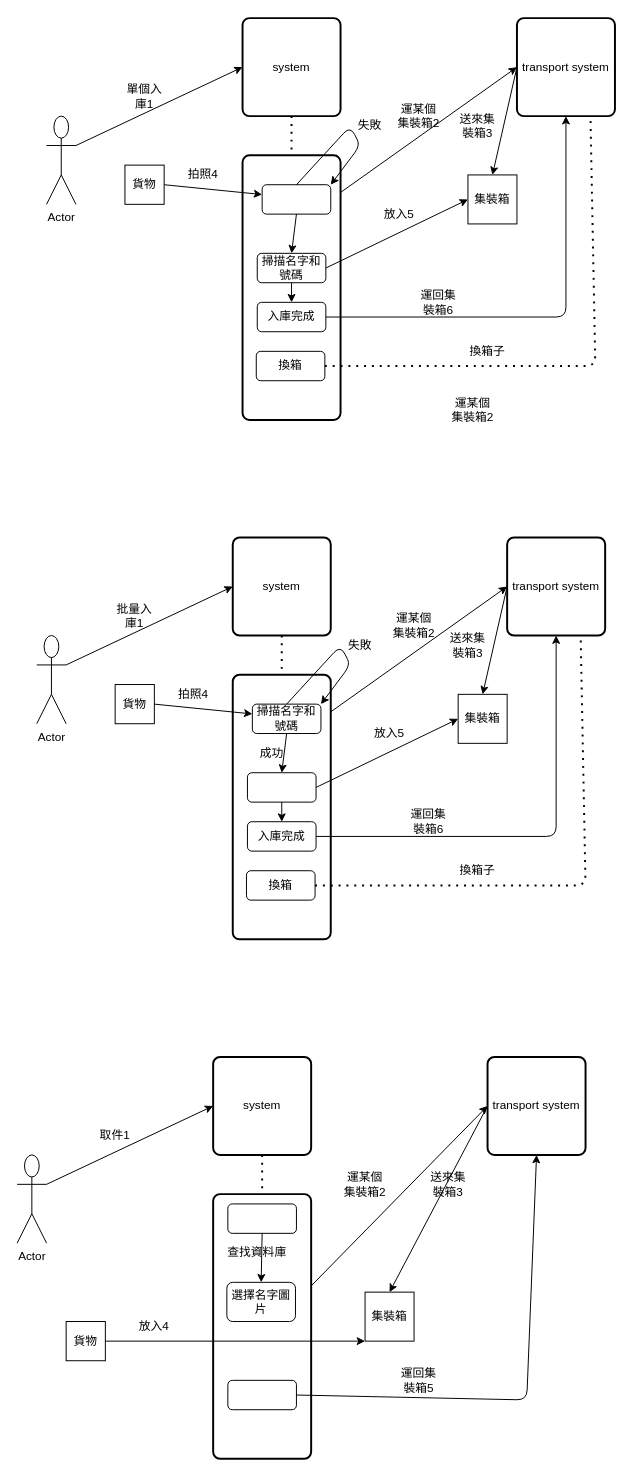
Some shapes in this 633 by 1476 pixel diagram are drawn without their labels. Here are the shapes that lost their labels. From the top down, the centre of each, then its label:
the point at 296,199: 掃描體積
the point at 281,787: 入庫
the point at 261,1218: 輸入手機號
the point at 261,1394: 完成
